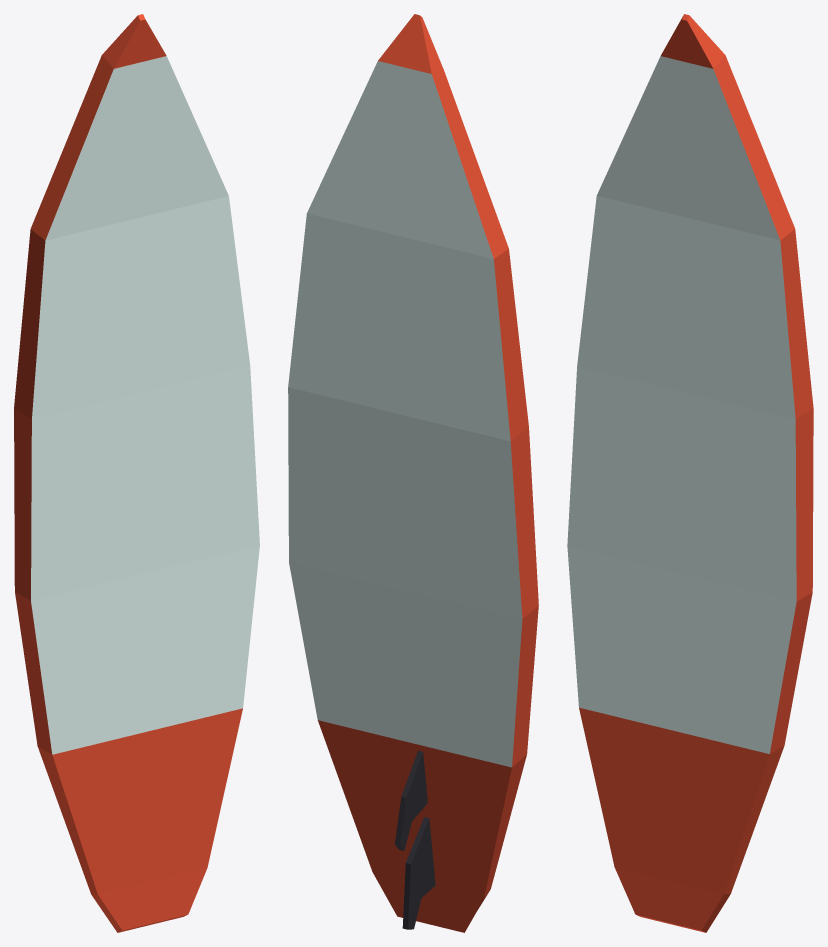
The model's file is SurfingBoard_B.fbx.
3 renders of one model, left to right at view 1: azimuth 30°, elevation 25°; view 2: azimuth 150°, elevation 25°; view 3: azimuth 330°, elevation 25°, orthographic.
Parts seen in each view (by area): view 1: SurfingBoard_B; view 2: SurfingBoard_B; view 3: SurfingBoard_B.
Part boxes in pixels (<box>): SurfingBoard_B: <box>14,14,259,932</box>; SurfingBoard_B: <box>288,14,538,932</box>; SurfingBoard_B: <box>567,14,813,932</box>.
Size of the model in its own units: 49.1 by 185 by 16.28.
